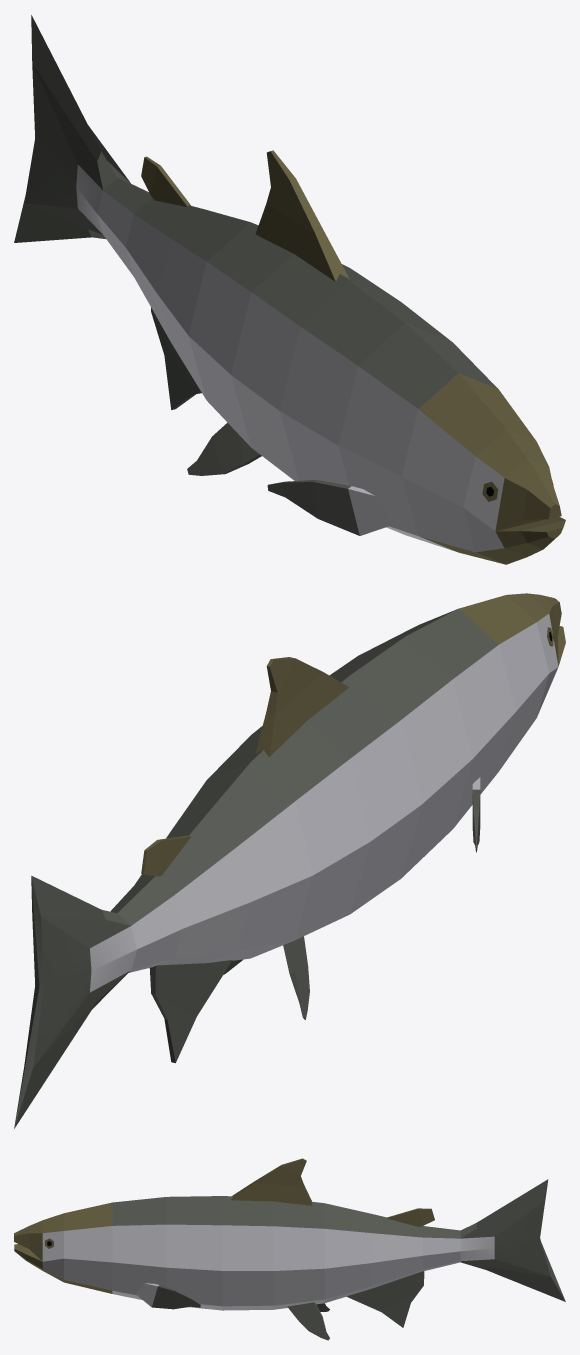
The model's file is Mesh_Fish.obj.
3 renders of one model, top to bottom at view 1: azimuth 30°, elevation 25°; view 2: azimuth 150°, elevation 25°; view 3: azimuth 270°, elevation 25°, orthographic. The views are drawn at different scales.
Visible parts, largest first — view 1: Geo_Salmon; view 2: Geo_Salmon; view 3: Geo_Salmon.
Part boxes in pixels (<box>): Geo_Salmon: <box>14,15,565,564</box>; Geo_Salmon: <box>14,593,565,1128</box>; Geo_Salmon: <box>14,1158,565,1340</box>.
Size of the model in its own units: 18.18 by 27.46 by 81.36.
Materials: 1 (1 with a texture image).
